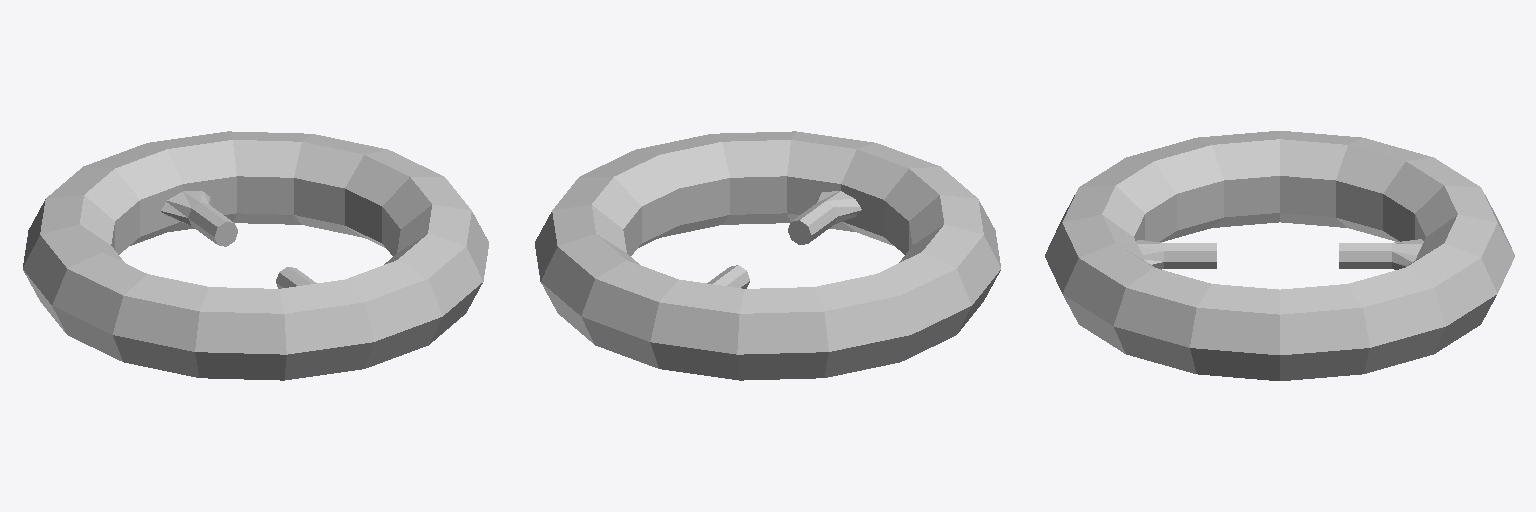
The model's file is StationMeshExternal.obj.
3 renders of one model, left to right at view 1: azimuth 30°, elevation 25°; view 2: azimuth 150°, elevation 25°; view 3: azimuth 270°, elevation 25°, orthographic.
Visible parts, largest first — view 1: StationRingSection_Torus, SpokeYPos_Cylinder.001, SpokeYNeg_Cylinder.002; view 2: StationRingSection_Torus, SpokeYNeg_Cylinder.002, SpokeYPos_Cylinder.001; view 3: StationRingSection_Torus, SpokeYPos_Cylinder.001, SpokeYNeg_Cylinder.002.
Boxes of the visible parts, x1=… form: StationRingSection_Torus: x1=23, y1=131, x2=488, y2=380; SpokeYPos_Cylinder.001: x1=161, y1=191, x2=237, y2=246; SpokeYNeg_Cylinder.002: x1=276, y1=267, x2=316, y2=288; StationRingSection_Torus: x1=535, y1=131, x2=1000, y2=380; SpokeYNeg_Cylinder.002: x1=788, y1=191, x2=861, y2=244; SpokeYPos_Cylinder.001: x1=707, y1=265, x2=749, y2=288; StationRingSection_Torus: x1=1045, y1=131, x2=1514, y2=380; SpokeYPos_Cylinder.001: x1=1339, y1=239, x2=1423, y2=269; SpokeYNeg_Cylinder.002: x1=1136, y1=240, x2=1216, y2=269.
Bounding box in the file's own units: 53.98 × 10.52 × 53.98.